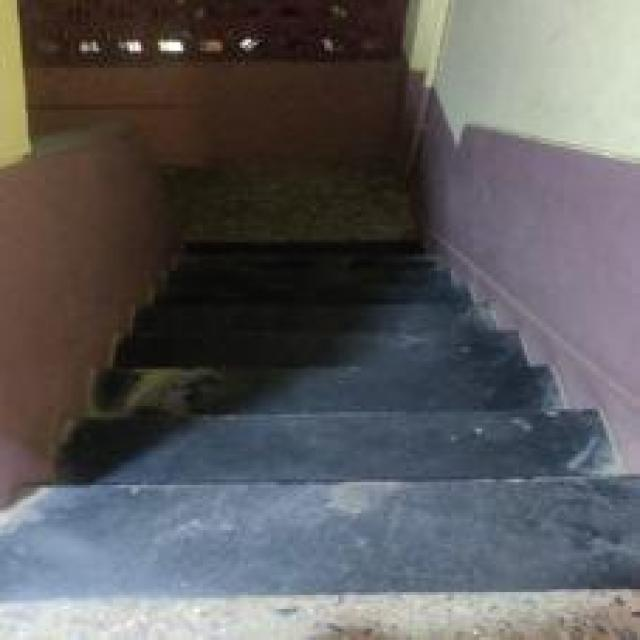downstair: (32, 354, 585, 560)
